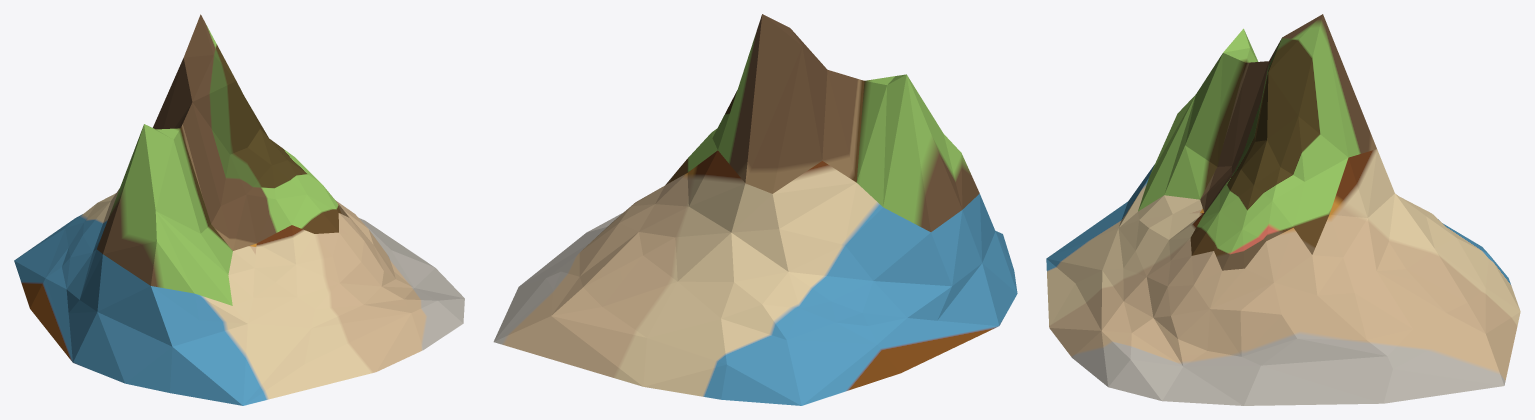
The model's file is Mountain_02.fbx.
The picture shows the model from 3 angles, left to right: view 1: azimuth 30°, elevation 25°; view 2: azimuth 150°, elevation 25°; view 3: azimuth 270°, elevation 25°; orthographic projection. The views are drawn at different scales.
Parts seen in each view (by area): view 1: Mountain_02; view 2: Mountain_02; view 3: Mountain_02.
Boxes of the visible parts, <box> form: Mountain_02: <box>14,14,464,405</box>; Mountain_02: <box>493,14,1017,405</box>; Mountain_02: <box>1046,14,1520,405</box>.
Bounding box in the file's own units: 73.19 × 52 × 77.04.
